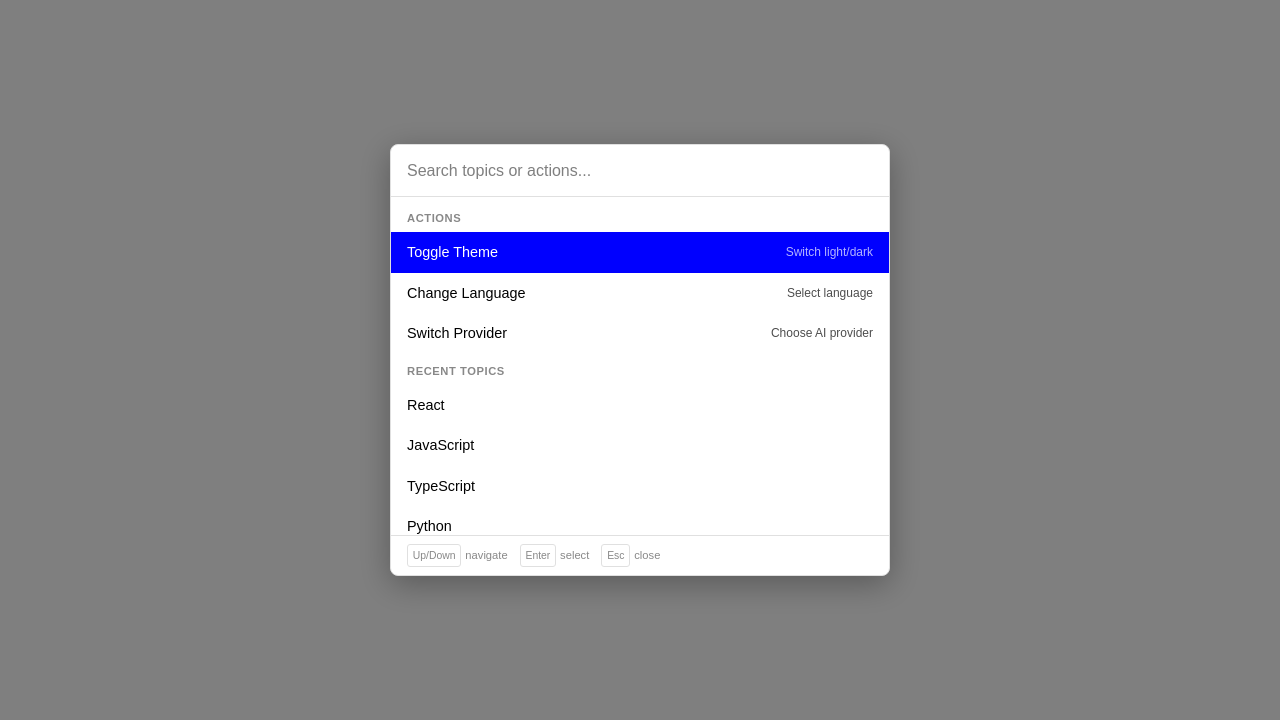
it: CommandPalette › filters actions by query
Type "theme" into the field with test id "command-palette-input" at coordinates (640, 171), box [391, 145, 889, 197]
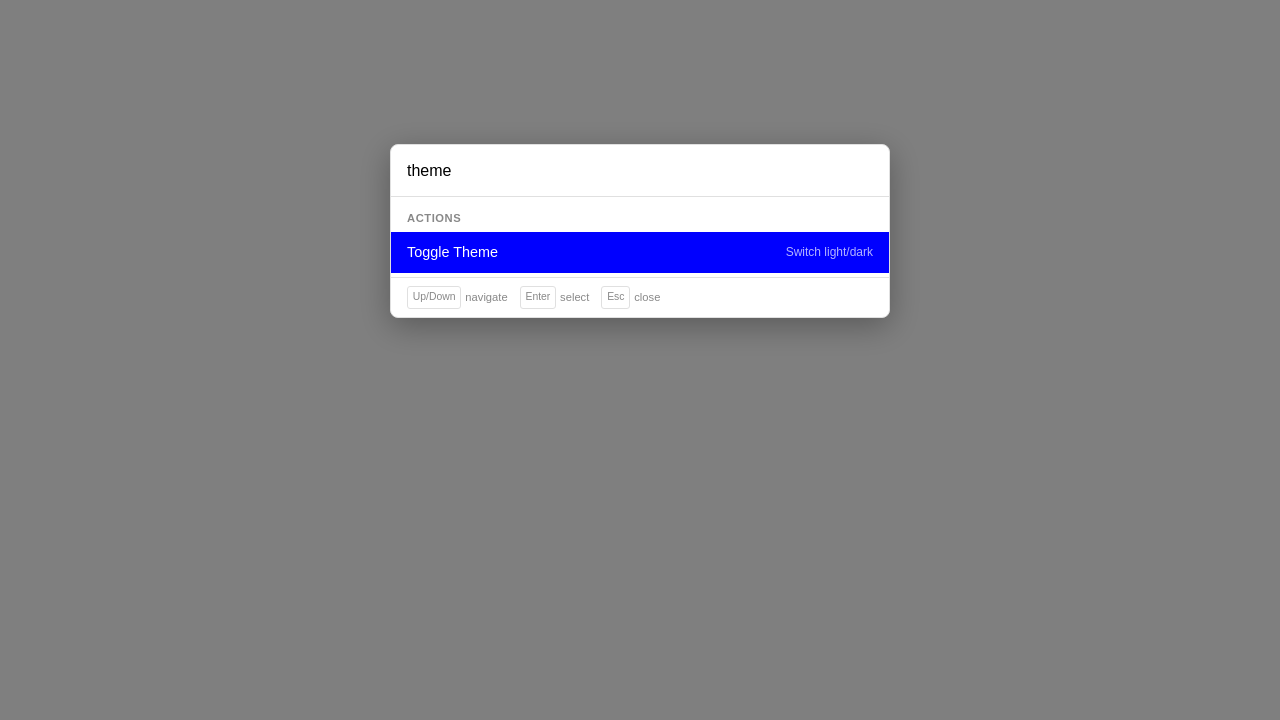
Expected: the text "Toggle Theme" is shown, [407, 240, 498, 265]
Now the option "Change Language" is gone
Now the option "Switch Provider" is gone
